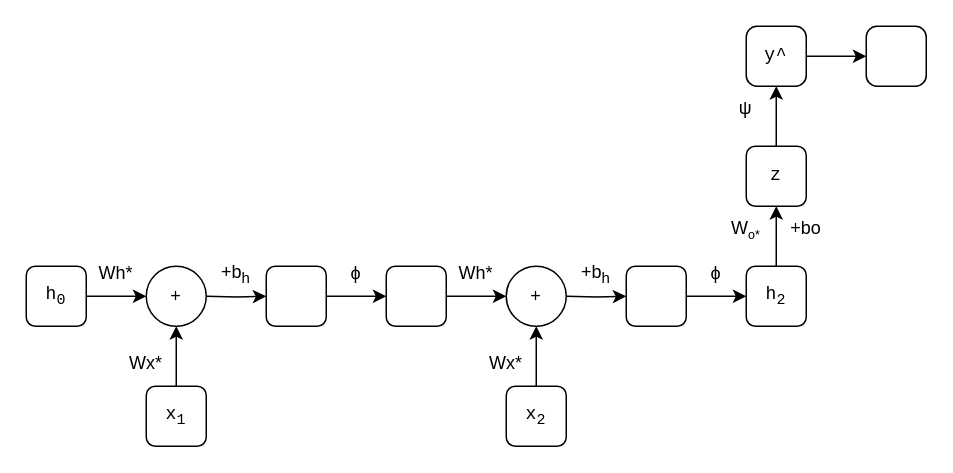
The diagram is 953 pixels wide and 473 high, and some of its shapes have lost their labels. The shapes that lost their labels are listed below. From the top down, each one's box as (x1, y1, x2, y2) in pixels, then its label:
(865, 25, 926, 86): Loss
(265, 265, 326, 326): a 1
(385, 265, 446, 326): h 1
(625, 265, 686, 326): a 2
